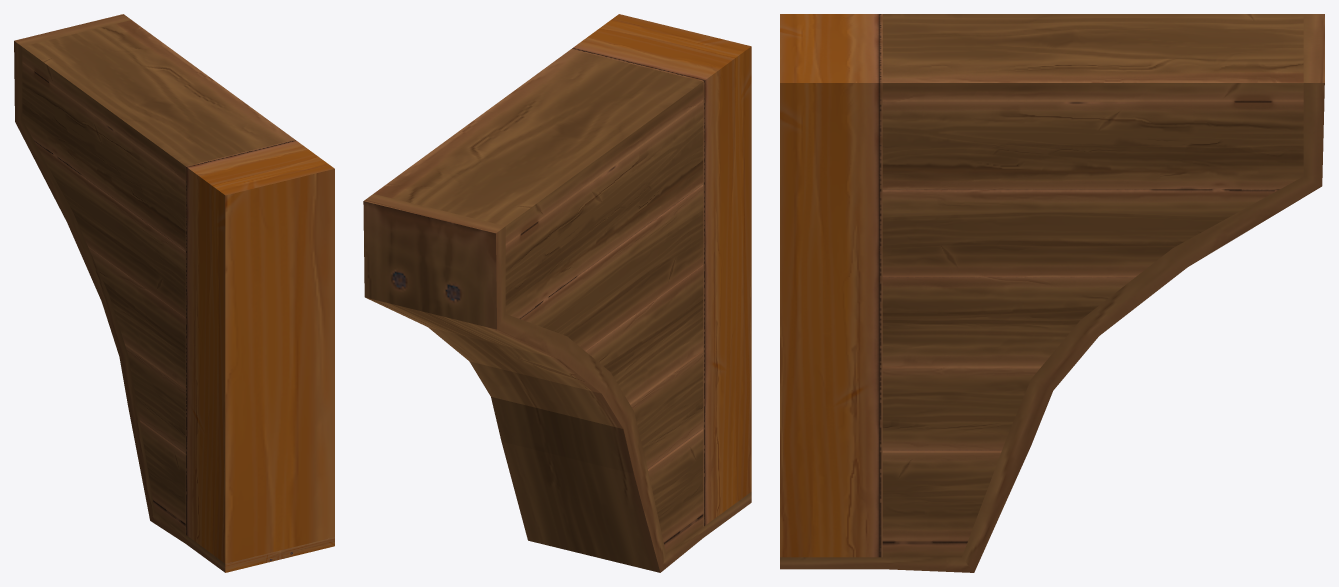
Rendered from WoodFrame_E_01.fbx.
3 renders of one model, left to right at view 1: azimuth 30°, elevation 25°; view 2: azimuth 150°, elevation 25°; view 3: azimuth 270°, elevation 25°, orthographic. The views are drawn at different scales.
Visible parts, largest first — view 1: WoodFrame_E_01; view 2: WoodFrame_E_01; view 3: WoodFrame_E_01.
Part boxes in pixels (x1=…): WoodFrame_E_01: x1=14, y1=14, x2=334, y2=572; WoodFrame_E_01: x1=363, y1=14, x2=751, y2=572; WoodFrame_E_01: x1=780, y1=14, x2=1324, y2=572.
Bounding box in the file's own units: 23.27 × 77.23 × 77.8.
1 material, 1 textured.
